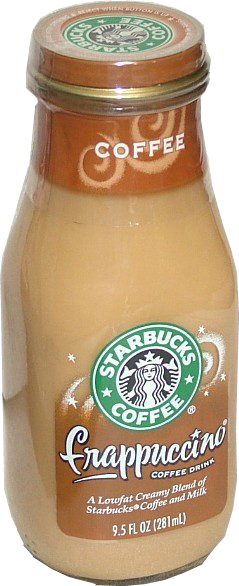grozi_73: (0, 0, 239, 586)
